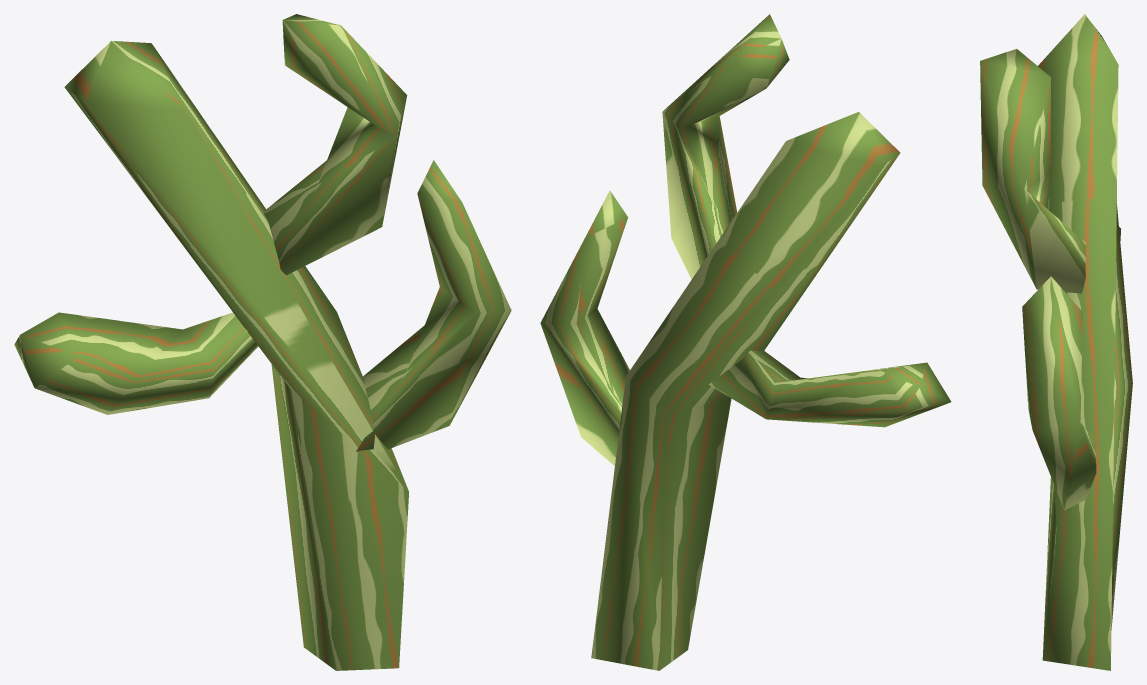
The model's file is cactus02low.FBX.
3 renders of one model, left to right at view 1: azimuth 30°, elevation 25°; view 2: azimuth 150°, elevation 25°; view 3: azimuth 270°, elevation 25°, orthographic. The views are drawn at different scales.
Visible parts, largest first — view 1: cactus02, kqtus04, kqtus05, kqtus03; view 2: cactus02, kqtus04, kqtus05, kqtus03; view 3: cactus02, kqtus04, kqtus05.
Boxes of the visible parts, x1,y1,x2,y2 form: cactus02: (64,40,408,670); kqtus04: (263,14,407,275); kqtus05: (356,160,511,451); kqtus03: (14,312,258,414); cactus02: (591,112,900,670); kqtus04: (662,14,789,279); kqtus05: (540,190,629,465); kqtus03: (709,350,951,427); cactus02: (1038,14,1132,670); kqtus04: (980,49,1085,293); kqtus05: (1022,276,1096,510).
Bounding box in the file's own units: 334 × 484 × 119.
